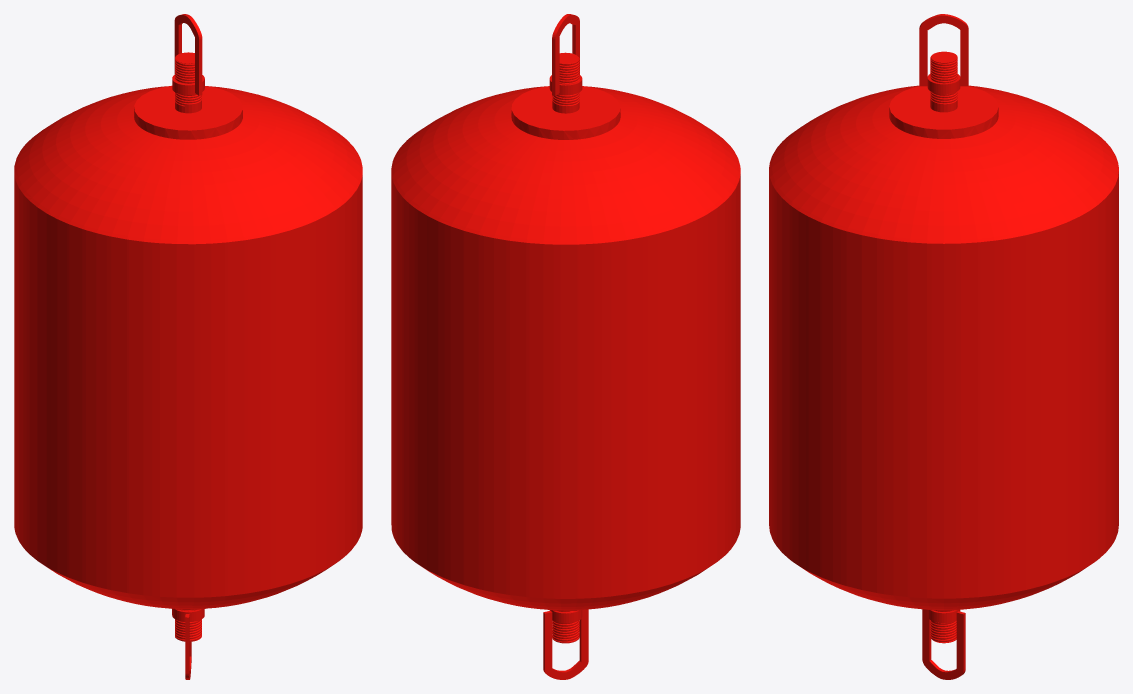
Rendered from buoy.dae.
3 views of the same model, side by side, from view 1: azimuth 30°, elevation 25°; view 2: azimuth 150°, elevation 25°; view 3: azimuth 270°, elevation 25° (orthographic).
Visible parts, largest first — view 1: Object-1; view 2: Object-1; view 3: Object-1.
Boxes of the visible parts, <box> form: Object-1: <box>14,14,362,679</box>; Object-1: <box>391,14,740,679</box>; Object-1: <box>769,14,1118,679</box>.
Size of the model in its own units: 0.64 by 1.34 by 0.64.
